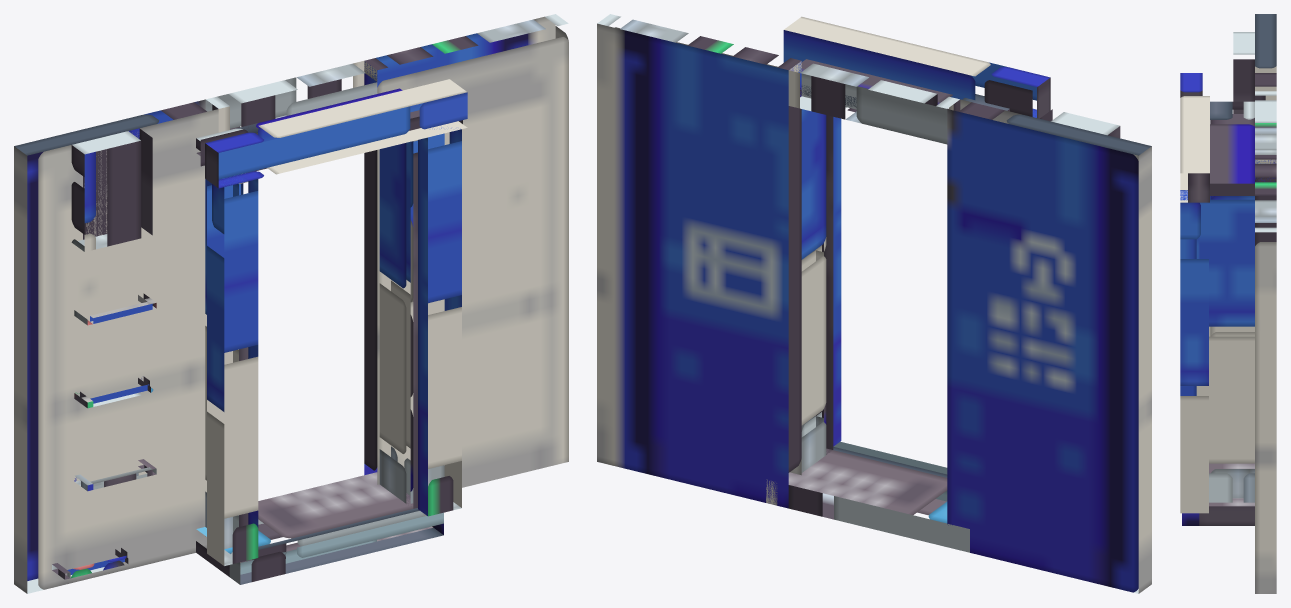
The model's file is end_face_original_25k_1.obj.
3 renders of one model, left to right at view 1: azimuth 30°, elevation 25°; view 2: azimuth 150°, elevation 25°; view 3: azimuth 270°, elevation 25°, orthographic. The views are drawn at different scales.
Visible parts, largest first — view 1: cube; view 2: cube; view 3: cube.
Part boxes in pixels (bbox=[...]): cube: bbox=[14, 14, 568, 593]; cube: bbox=[597, 14, 1151, 593]; cube: bbox=[1180, 14, 1276, 593].
Size of the model in its own units: 2.99 by 2.31 by 0.5562.
